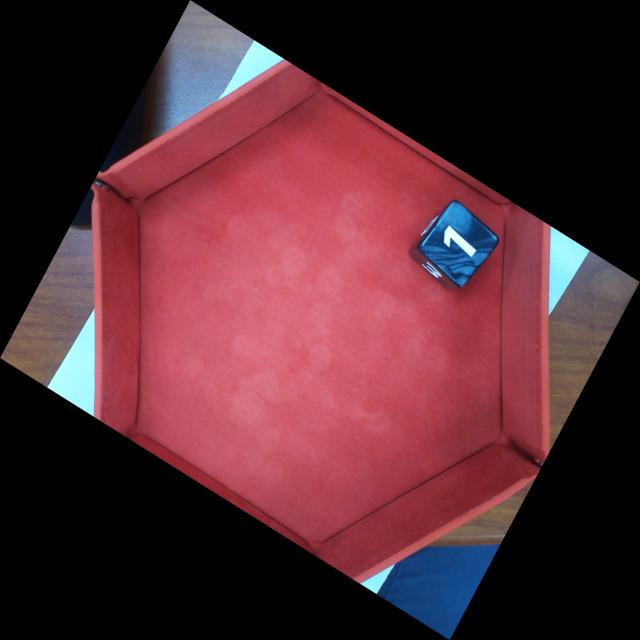dice: (420, 198, 500, 286)
